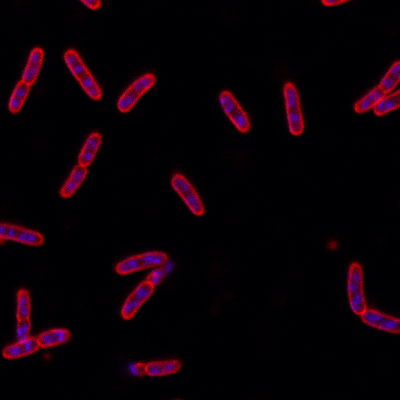Control: (60, 132, 102, 198), (353, 59, 400, 113), (8, 47, 45, 114), (64, 49, 103, 101), (116, 72, 156, 113), (171, 174, 204, 216), (219, 90, 251, 133), (283, 81, 304, 136), (361, 309, 400, 334), (348, 263, 366, 315), (1, 223, 43, 245)
Oblique: (120, 262, 174, 320), (124, 359, 183, 377), (15, 289, 30, 341)
Vesicle: (326, 238, 338, 252)
